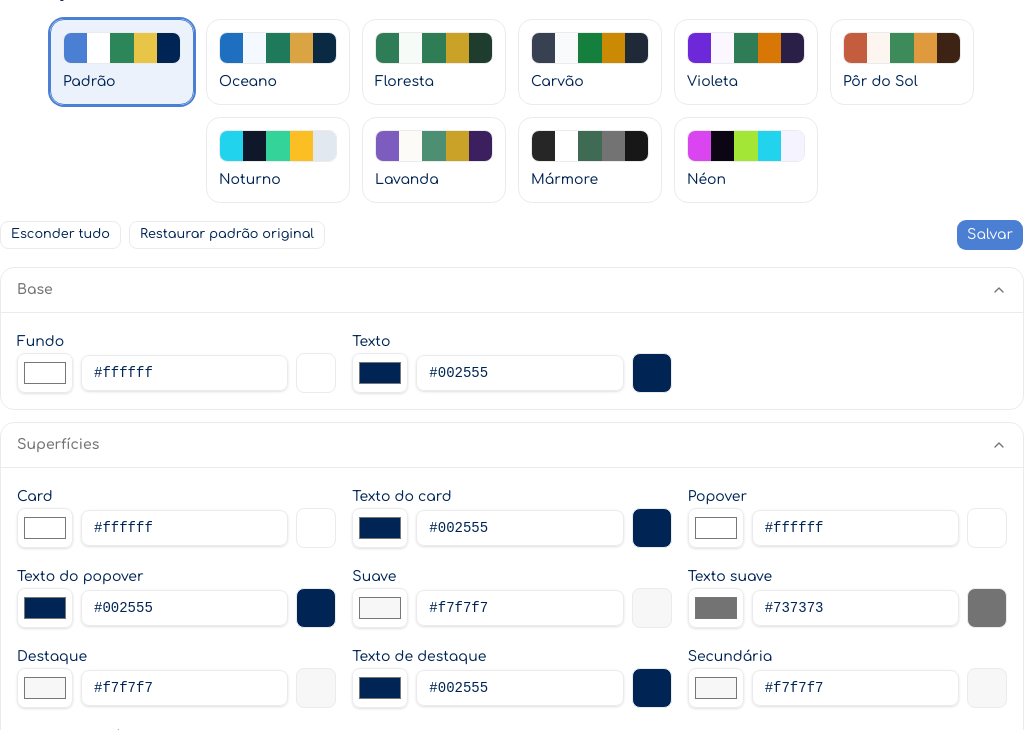
Test: DefaultColorsSection › applies a preset to color pickers without saving
This screenshot has width=1024, height=730.
Step 1. Click the button "Oceano" → coordinates (278, 62), box [206,19,350,105]
(page scrolled)
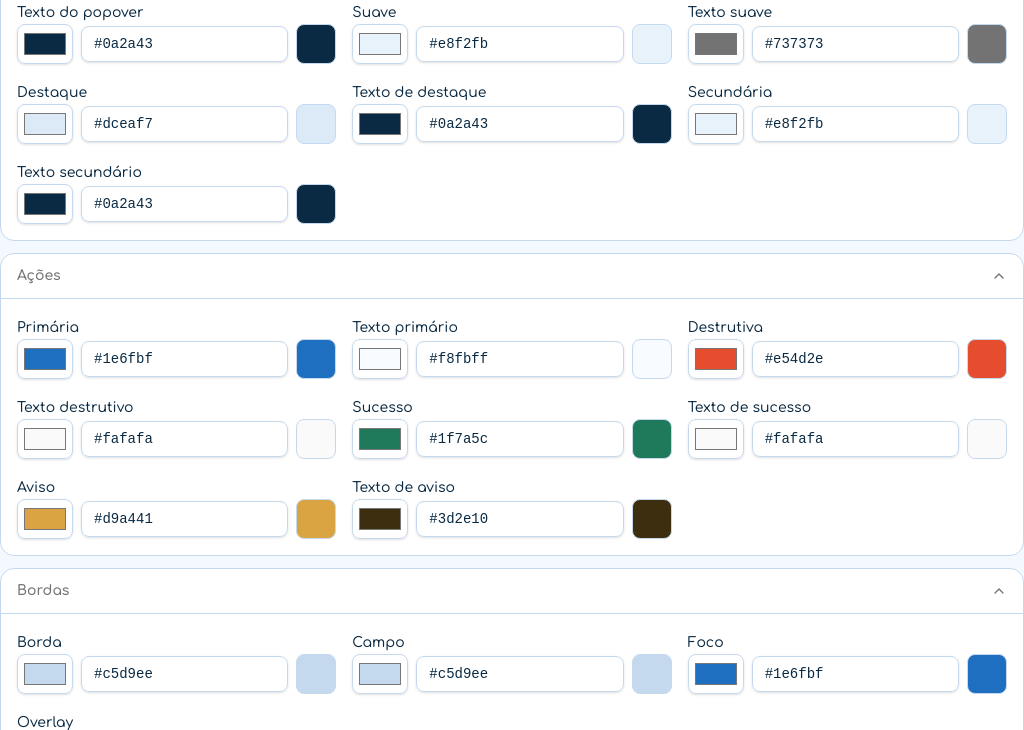
Expected: the colour field with id "semantic-token-primary" holds "#1e6fbf", [17,339,73,379]
